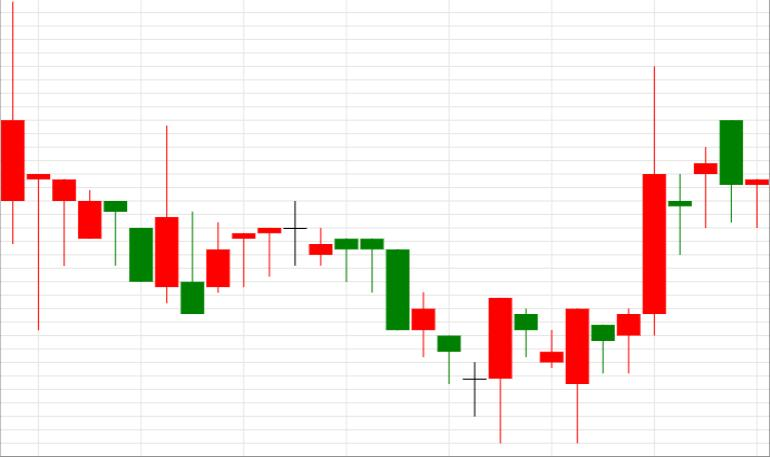morning_star_rise: (283, 200, 513, 443)
